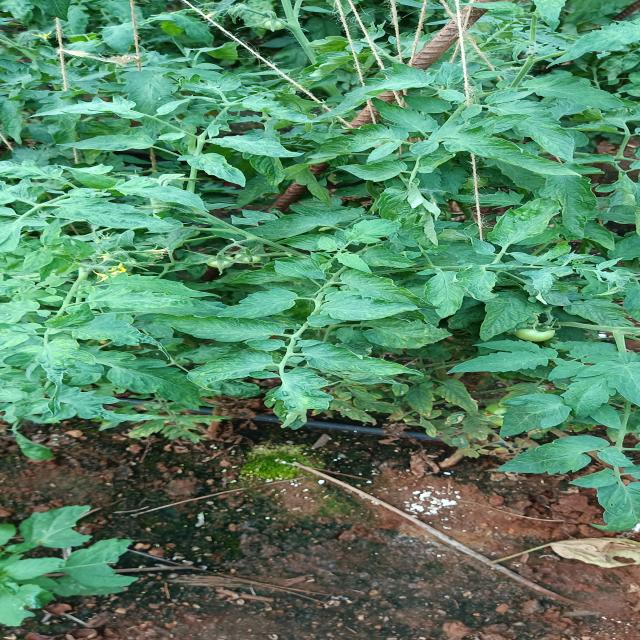Healthy Leaf: (440, 131, 584, 183), (149, 311, 298, 348), (471, 392, 575, 438), (494, 438, 608, 477), (517, 79, 640, 111), (98, 176, 206, 212), (437, 346, 546, 381), (295, 346, 422, 376), (209, 283, 324, 313), (472, 292, 541, 342), (187, 352, 280, 389), (584, 477, 640, 538), (317, 292, 420, 320), (177, 157, 266, 189), (201, 133, 305, 160), (21, 97, 138, 121), (369, 99, 438, 136), (62, 131, 164, 151), (330, 161, 409, 182)
